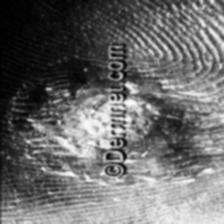Toxin: (76, 86, 148, 144)
